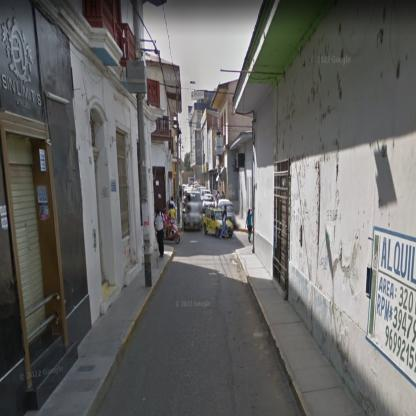Moto: (164, 216, 181, 245)
Obstaculo: (230, 259, 245, 271)
Peaton: (155, 210, 167, 258), (245, 210, 255, 245), (221, 206, 229, 242), (169, 205, 178, 227), (170, 198, 176, 210)
Pista: (167, 237, 247, 272)
Vehiculo: (205, 206, 235, 239), (184, 205, 204, 232), (221, 202, 238, 232), (204, 196, 216, 214)
